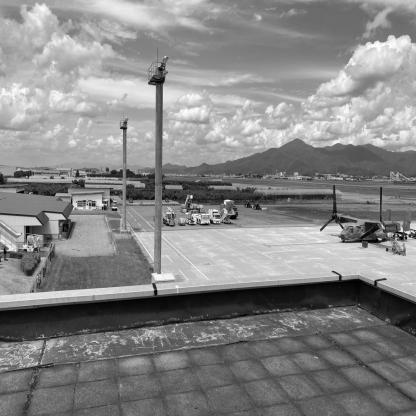V22: (321, 186, 412, 244)
